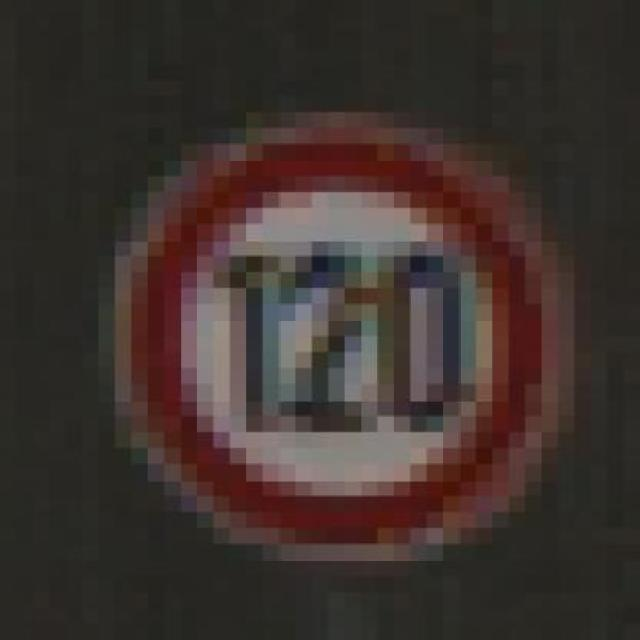forb_speed_over_120: (139, 129, 552, 540)
